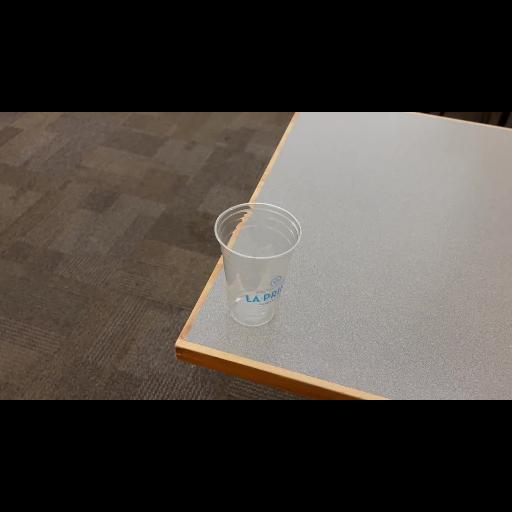lp_plastic_cup: (212, 200, 302, 330)
